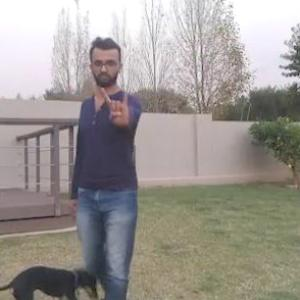takeoff-hand: (99, 77, 139, 132)
